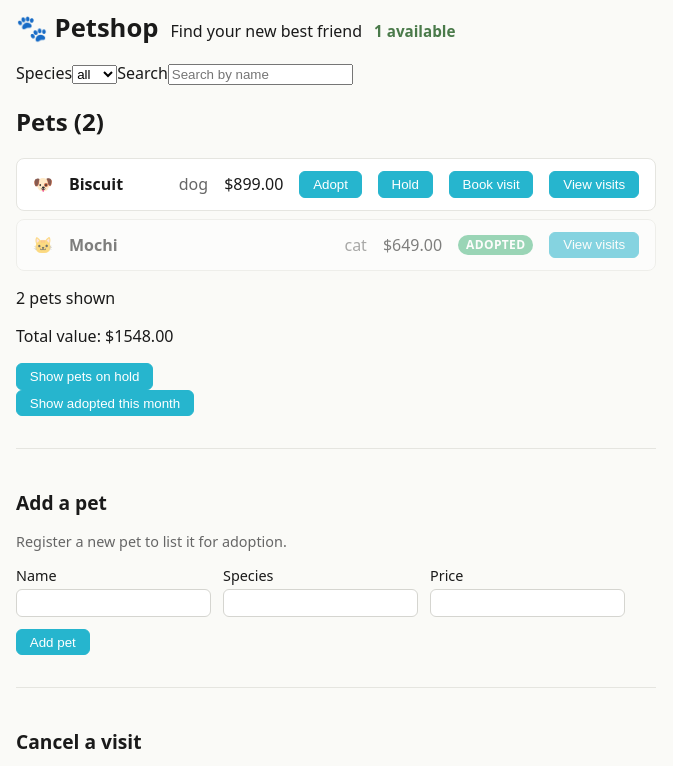
Test: App › shows an "Adopted" badge only on adopted pets, and it appears after adopting without a reload
Expected: the text "Biscuit" is shown, [69,173,123,195]
Expected: the text "Adopted" is shown, [458,235,533,255]
// Adopting from the UI makes the badge appear without a full page reload.
Step 1. Click the button "Adopt" → click(330, 184), box [299,171,362,198]
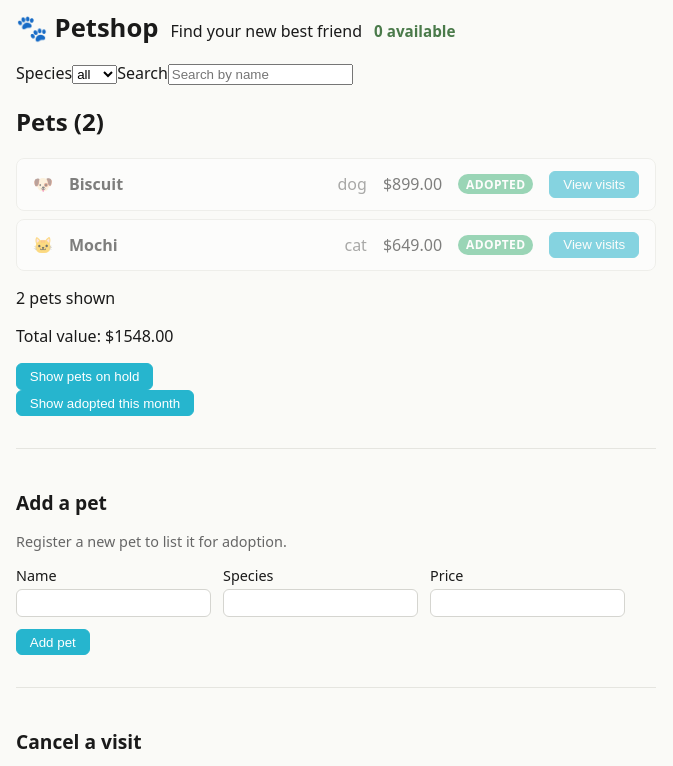
Expected: the text "Adopted" in the row of "Biscuit" is shown, [466,176,525,193]
